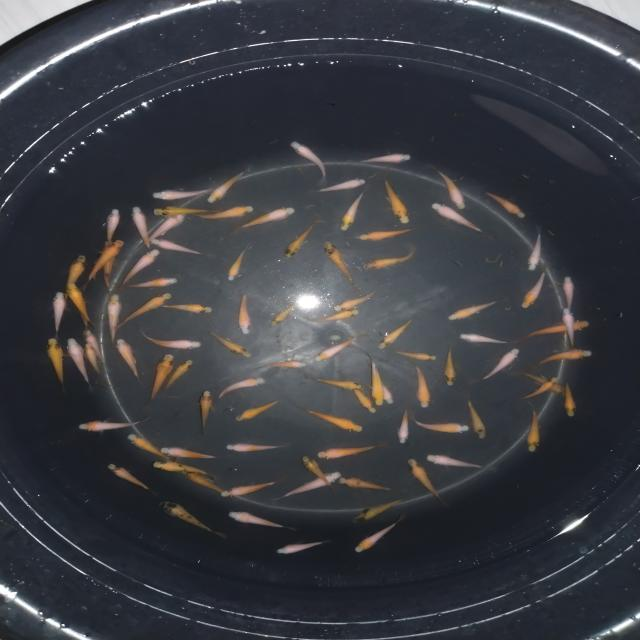nila: (286, 394, 368, 438), (154, 498, 230, 544), (267, 470, 347, 510), (428, 202, 499, 246), (400, 456, 455, 511), (112, 292, 176, 334), (346, 516, 411, 554), (137, 353, 177, 413), (510, 319, 595, 347), (426, 446, 502, 477), (292, 453, 342, 498), (226, 506, 306, 534), (272, 218, 326, 259), (286, 138, 332, 185), (182, 470, 244, 504), (68, 413, 152, 438), (464, 347, 522, 383), (378, 165, 412, 225), (150, 458, 218, 488), (81, 240, 125, 286), (218, 472, 290, 500), (310, 332, 372, 364), (318, 239, 361, 285), (347, 496, 408, 528), (204, 167, 254, 206), (116, 247, 161, 290), (430, 166, 472, 212), (122, 432, 182, 464), (335, 370, 378, 414), (133, 328, 203, 354), (230, 206, 300, 232), (522, 350, 592, 376), (482, 187, 530, 224), (206, 328, 258, 362), (400, 358, 434, 410), (139, 212, 188, 248), (156, 434, 218, 462), (312, 441, 387, 464), (408, 411, 471, 438), (103, 460, 154, 493), (64, 334, 94, 390), (359, 244, 419, 272), (230, 395, 286, 425), (112, 338, 146, 386), (44, 334, 70, 396), (514, 266, 549, 312), (215, 374, 273, 401), (328, 194, 368, 232), (374, 314, 414, 352), (518, 402, 546, 456), (515, 370, 573, 396), (510, 374, 562, 402), (94, 232, 119, 290), (444, 298, 502, 323), (272, 536, 336, 558), (191, 204, 259, 224), (155, 361, 196, 394), (462, 392, 489, 442), (366, 360, 394, 408), (232, 289, 258, 337), (194, 386, 216, 442), (328, 288, 377, 313), (66, 281, 93, 325), (222, 438, 287, 456), (334, 474, 392, 494), (123, 275, 191, 292), (145, 204, 216, 220), (148, 236, 204, 256), (128, 207, 154, 250), (302, 372, 364, 390), (224, 244, 251, 284), (383, 346, 441, 364), (61, 254, 88, 292), (357, 226, 416, 243), (558, 307, 579, 353), (100, 292, 119, 342), (367, 362, 386, 412), (156, 301, 214, 317), (312, 307, 366, 324), (100, 204, 124, 242), (147, 186, 212, 200), (440, 343, 460, 388), (315, 178, 370, 194), (81, 327, 106, 362), (457, 331, 510, 346), (272, 298, 298, 328), (528, 224, 544, 272), (85, 340, 104, 380), (396, 402, 412, 448), (356, 154, 416, 166), (558, 276, 578, 312), (48, 286, 62, 336), (252, 358, 310, 370), (562, 380, 578, 420), (78, 306, 91, 332)
